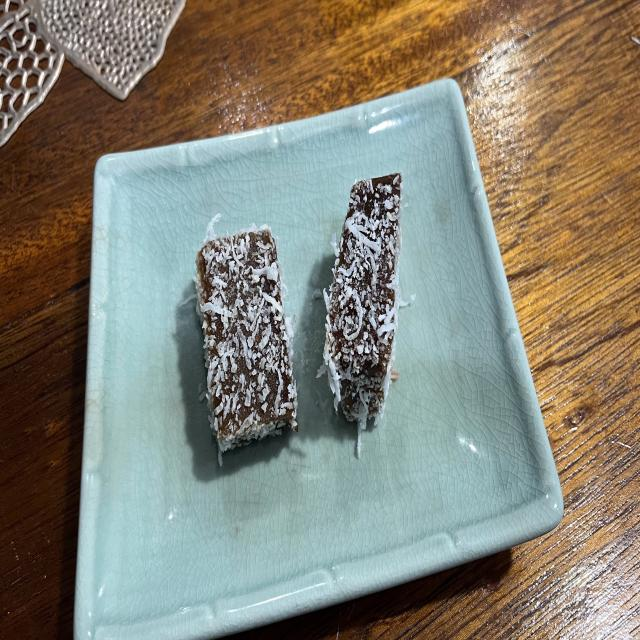kaswi: (196, 216, 298, 464), (318, 173, 406, 458)
